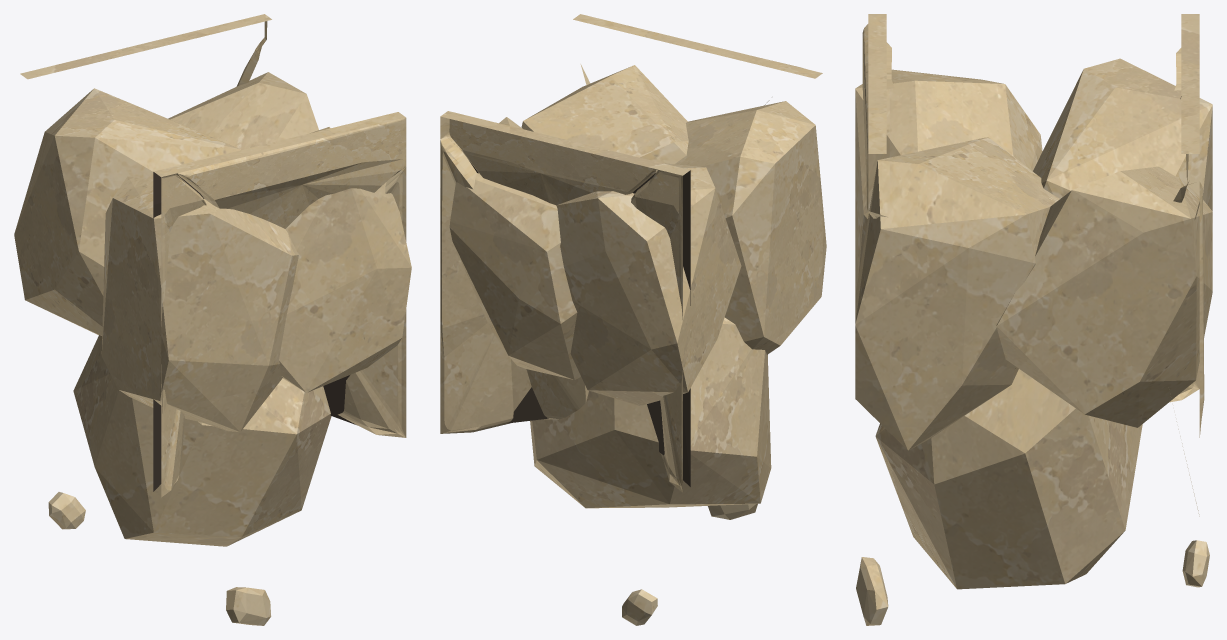
File: ground_bottom_strip_05.glb
3 renders of one model, left to right at view 1: azimuth 30°, elevation 25°; view 2: azimuth 150°, elevation 25°; view 3: azimuth 270°, elevation 25°, orthographic. The views are drawn at different scales.
Parts seen in each view (by area): view 1: GroundBottomStrip05_Body; view 2: GroundBottomStrip05_Body; view 3: GroundBottomStrip05_Body.
Boxes of the visible parts, x1,y1,x2,y2 form: GroundBottomStrip05_Body: (14, 14, 411, 625); GroundBottomStrip05_Body: (440, 14, 826, 625); GroundBottomStrip05_Body: (855, 14, 1212, 625).
Bounding box in the file's own units: 1 × 1.84 × 1.08.
8 materials, 7 textured.
